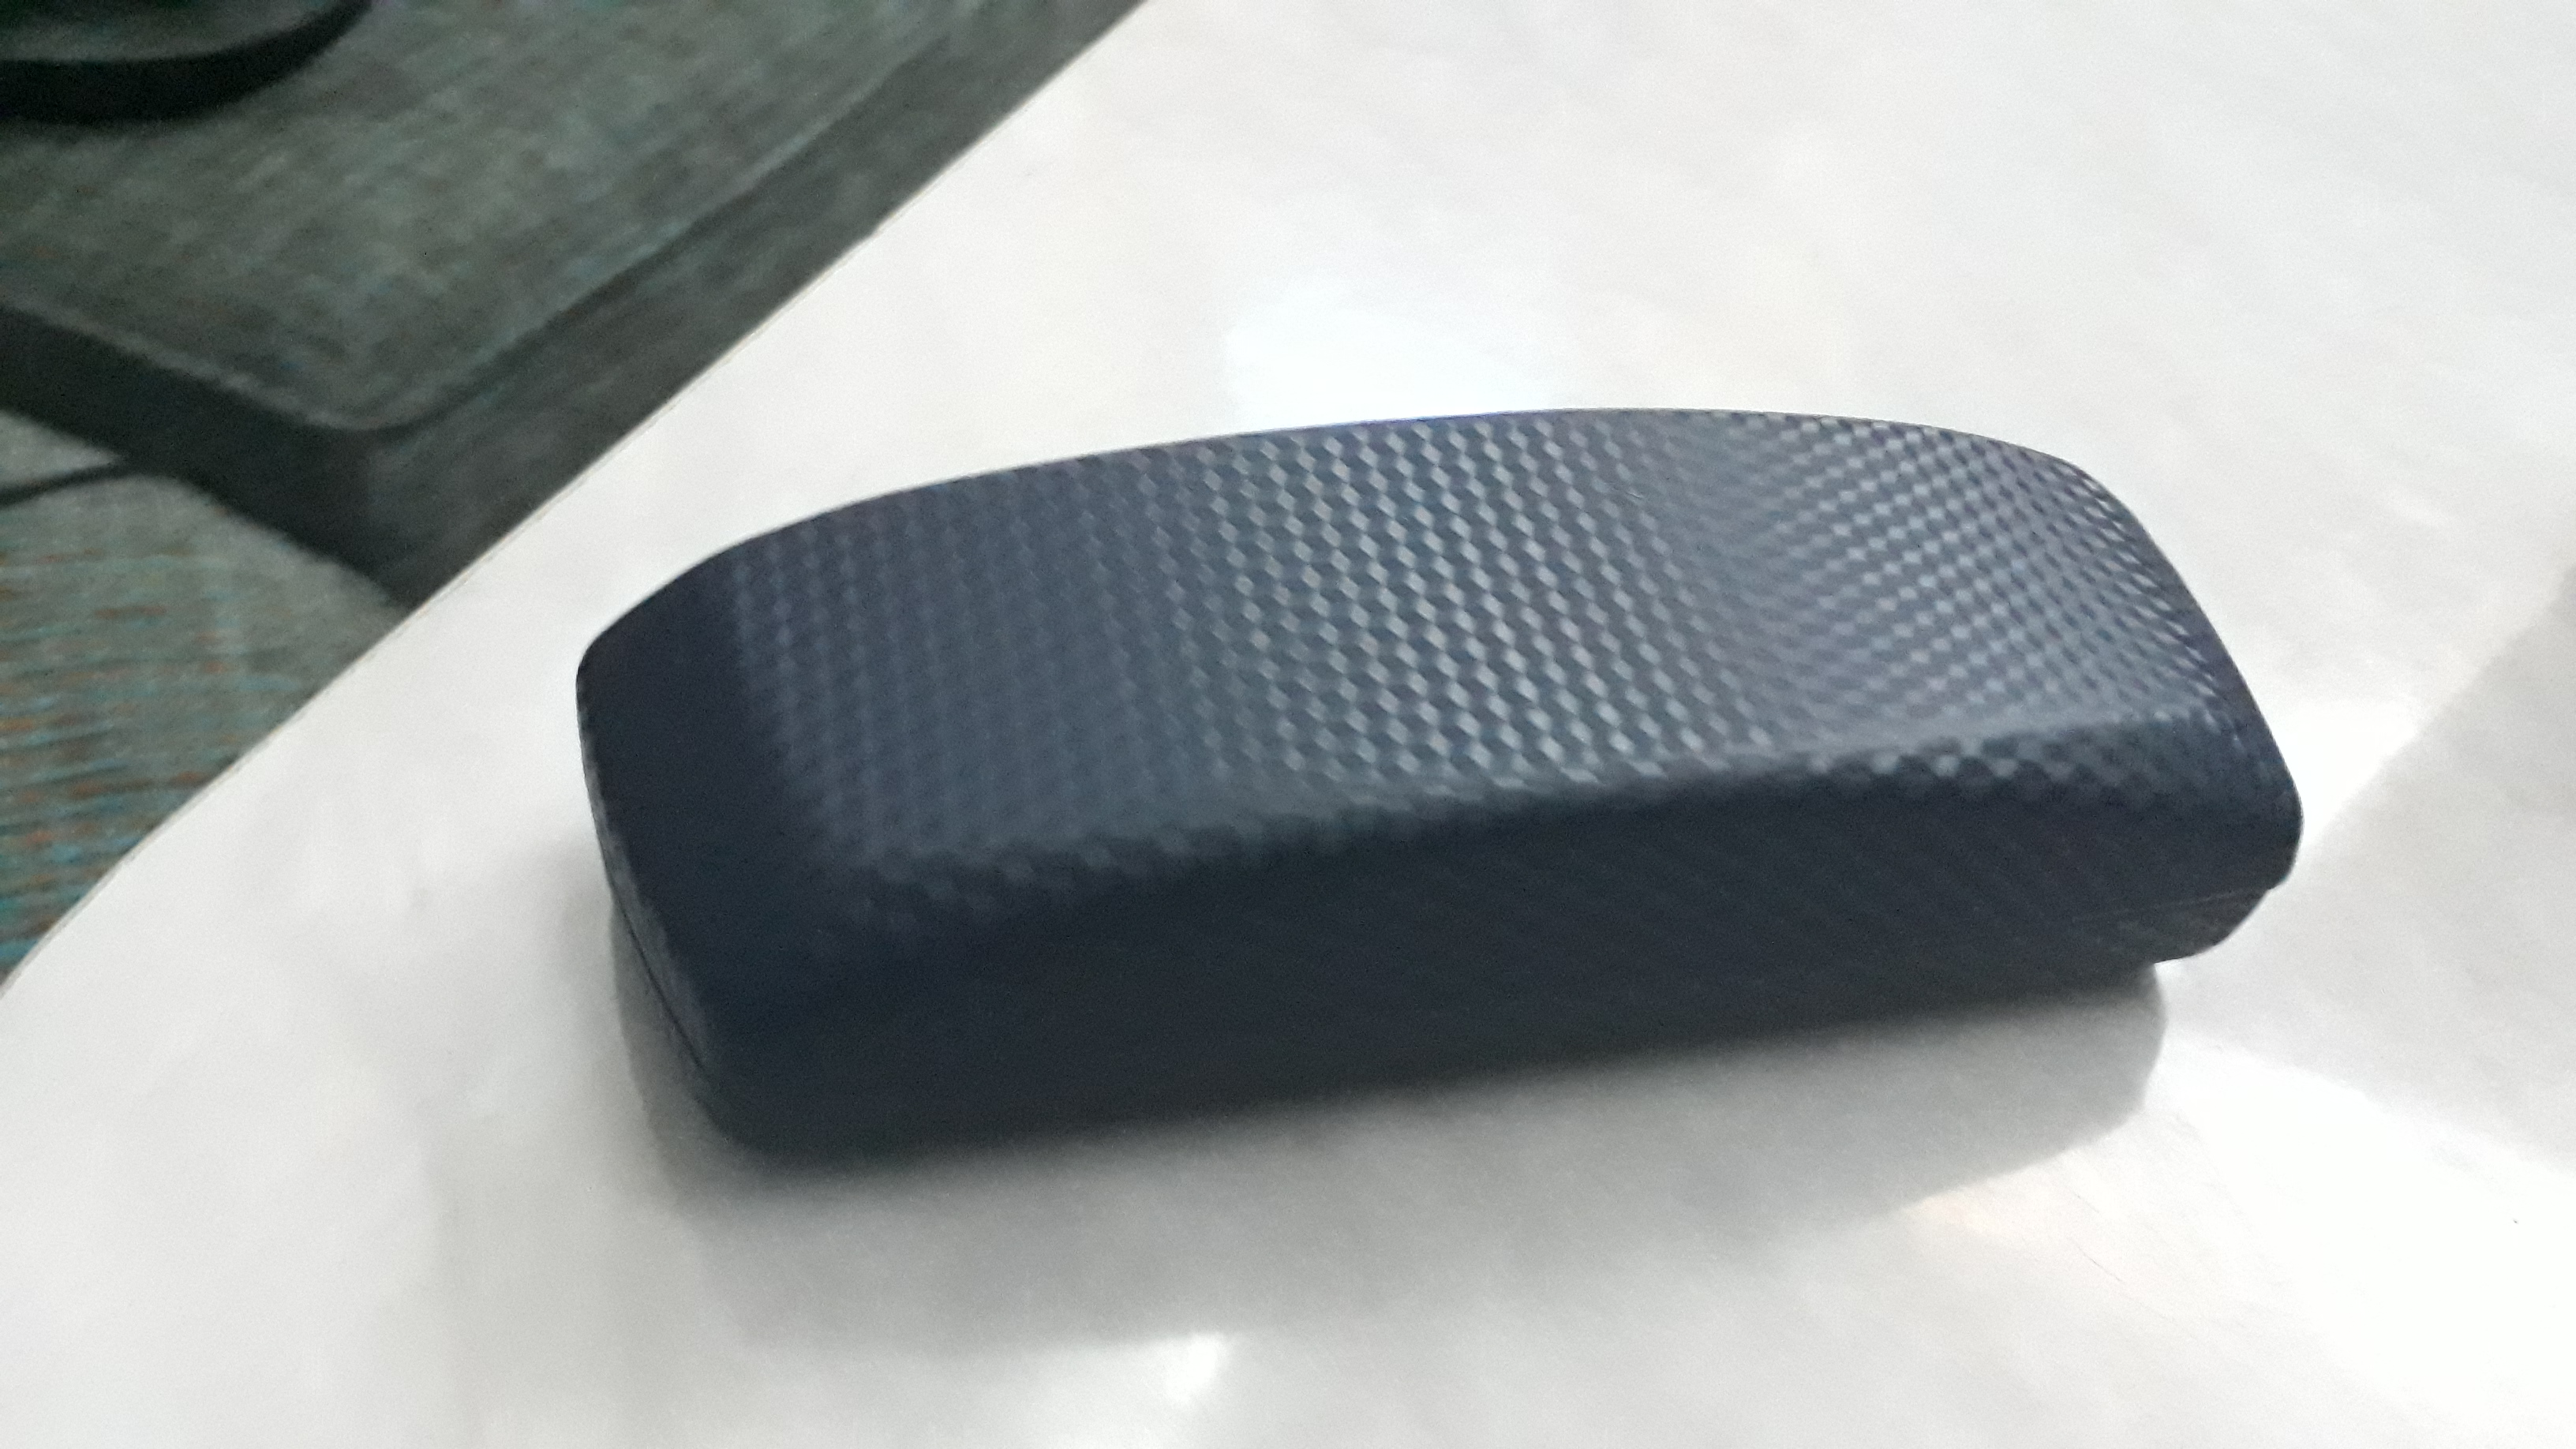nadar: (554, 380, 2319, 1215)
